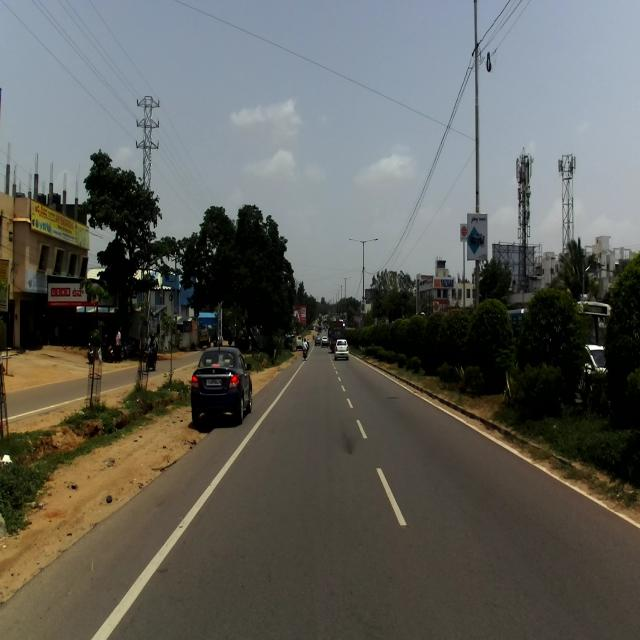car: (190, 346, 253, 424)
